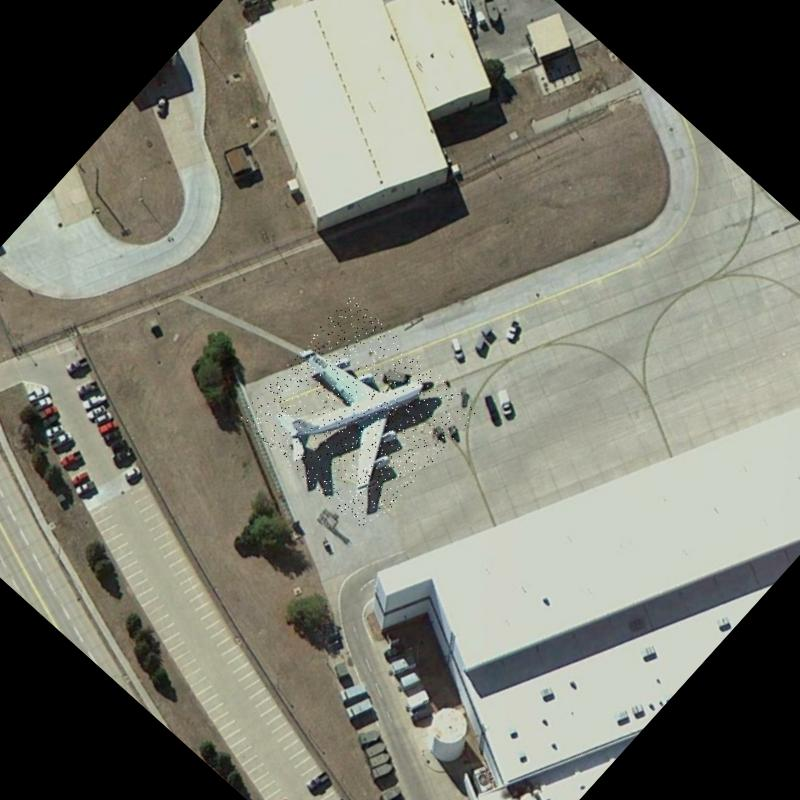A11: (237, 294, 478, 535)
